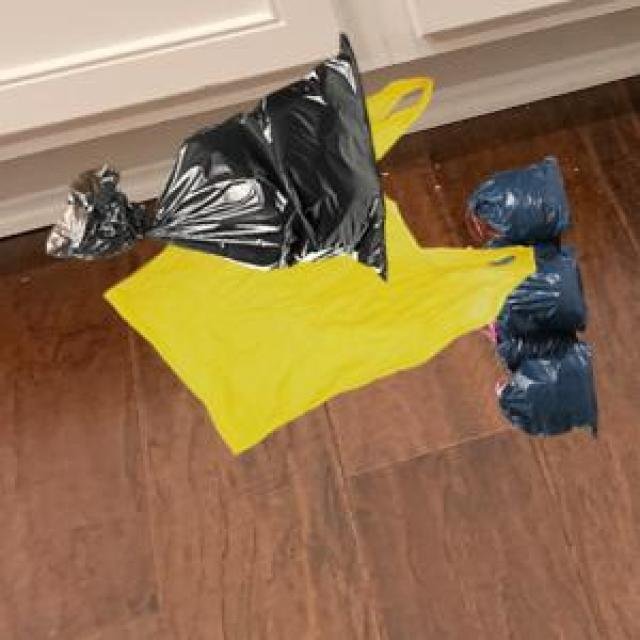miscellaneous trash: (43, 30, 381, 277), (465, 154, 593, 435)
